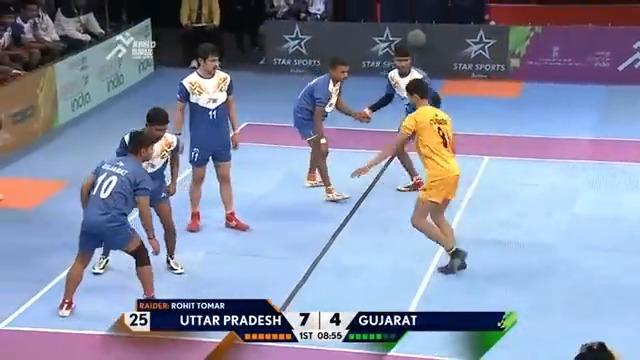Player: (57, 128, 160, 317), (90, 106, 184, 275), (172, 41, 250, 232), (358, 45, 442, 192), (292, 56, 369, 202)
Raider: (350, 77, 468, 274)
referee: (178, 0, 222, 69), (230, 0, 266, 56)
